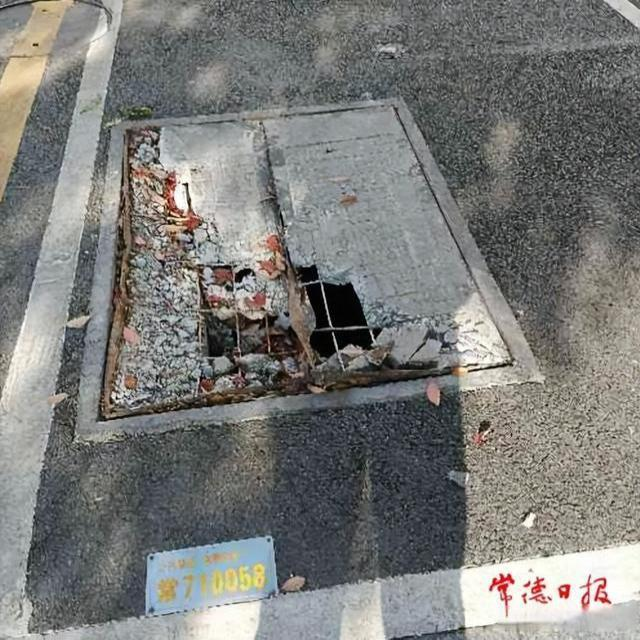manhole: (78, 100, 541, 439)
